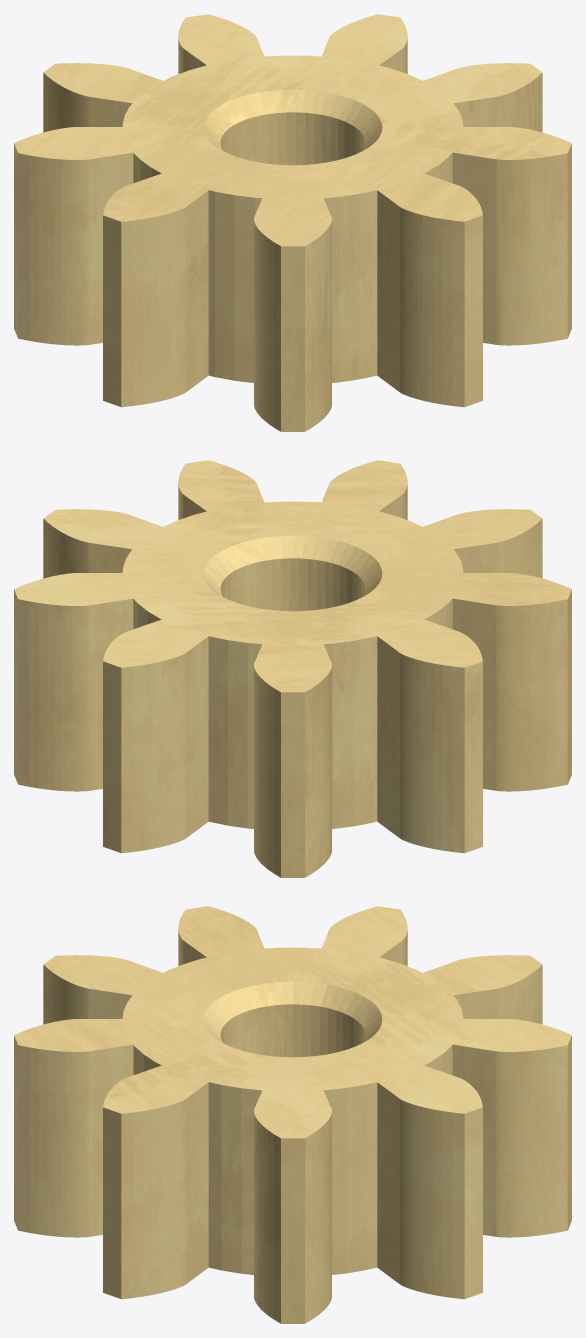
Rendered from planet_gear.glb.
3 renders of one model, top to bottom at view 1: azimuth 30°, elevation 25°; view 2: azimuth 150°, elevation 25°; view 3: azimuth 270°, elevation 25°, orthographic.
Parts seen in each view (by area): view 1: OpenSCAD_Model; view 2: OpenSCAD_Model; view 3: OpenSCAD_Model.
Part boxes in pixels (box(x1,y1,x2,y2)): OpenSCAD_Model: box(14, 14, 571, 431); OpenSCAD_Model: box(14, 460, 571, 877); OpenSCAD_Model: box(14, 906, 571, 1323).
Size of the model in its own units: 32.22 by 12 by 32.71.
Materials: 1 (1 with a texture image).
